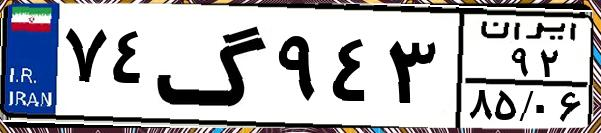0: (535, 70, 560, 125)
2: (537, 27, 568, 80)
3: (385, 28, 445, 110)
4: (330, 28, 385, 110), (110, 28, 156, 98)
5: (495, 70, 520, 125)
6: (560, 70, 590, 125)
7: (57, 26, 110, 100)
8: (470, 70, 495, 125)
9: (270, 28, 330, 110), (508, 27, 537, 80)
گ: (156, 12, 270, 120)
